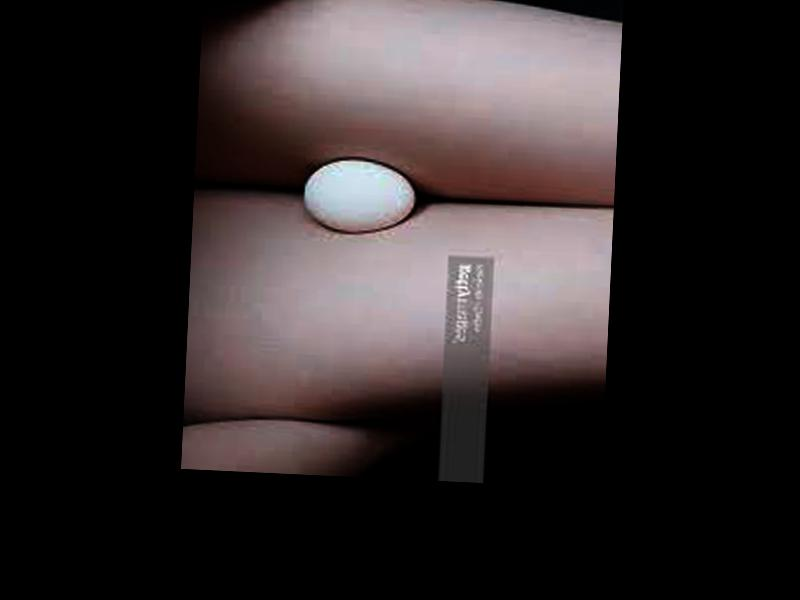Eggs: (302, 157, 416, 235)
